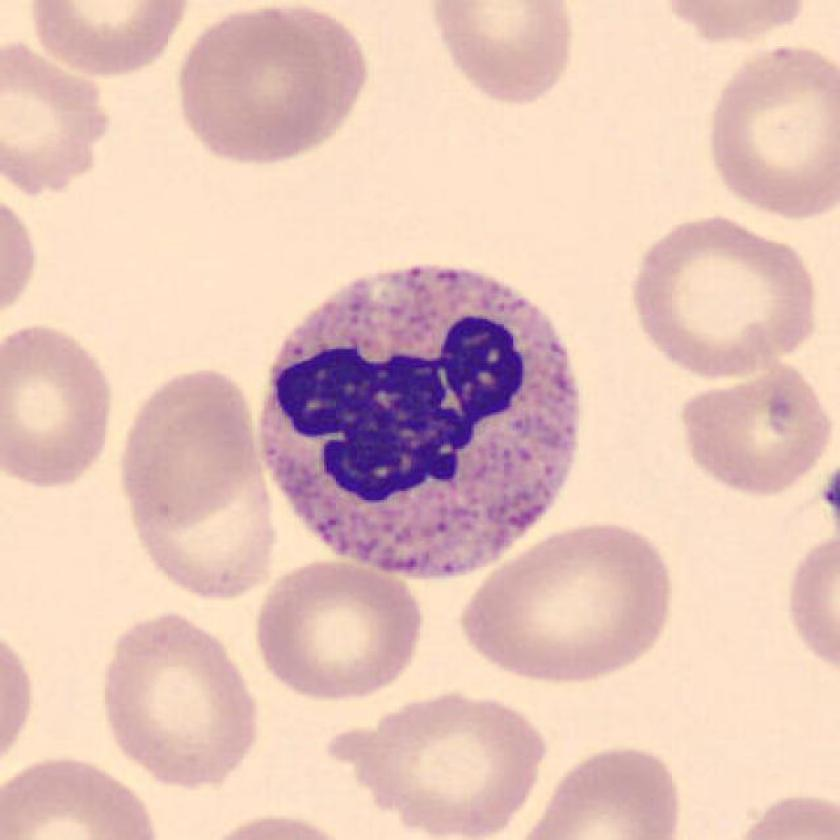neutrophil: (261, 268, 580, 578)
